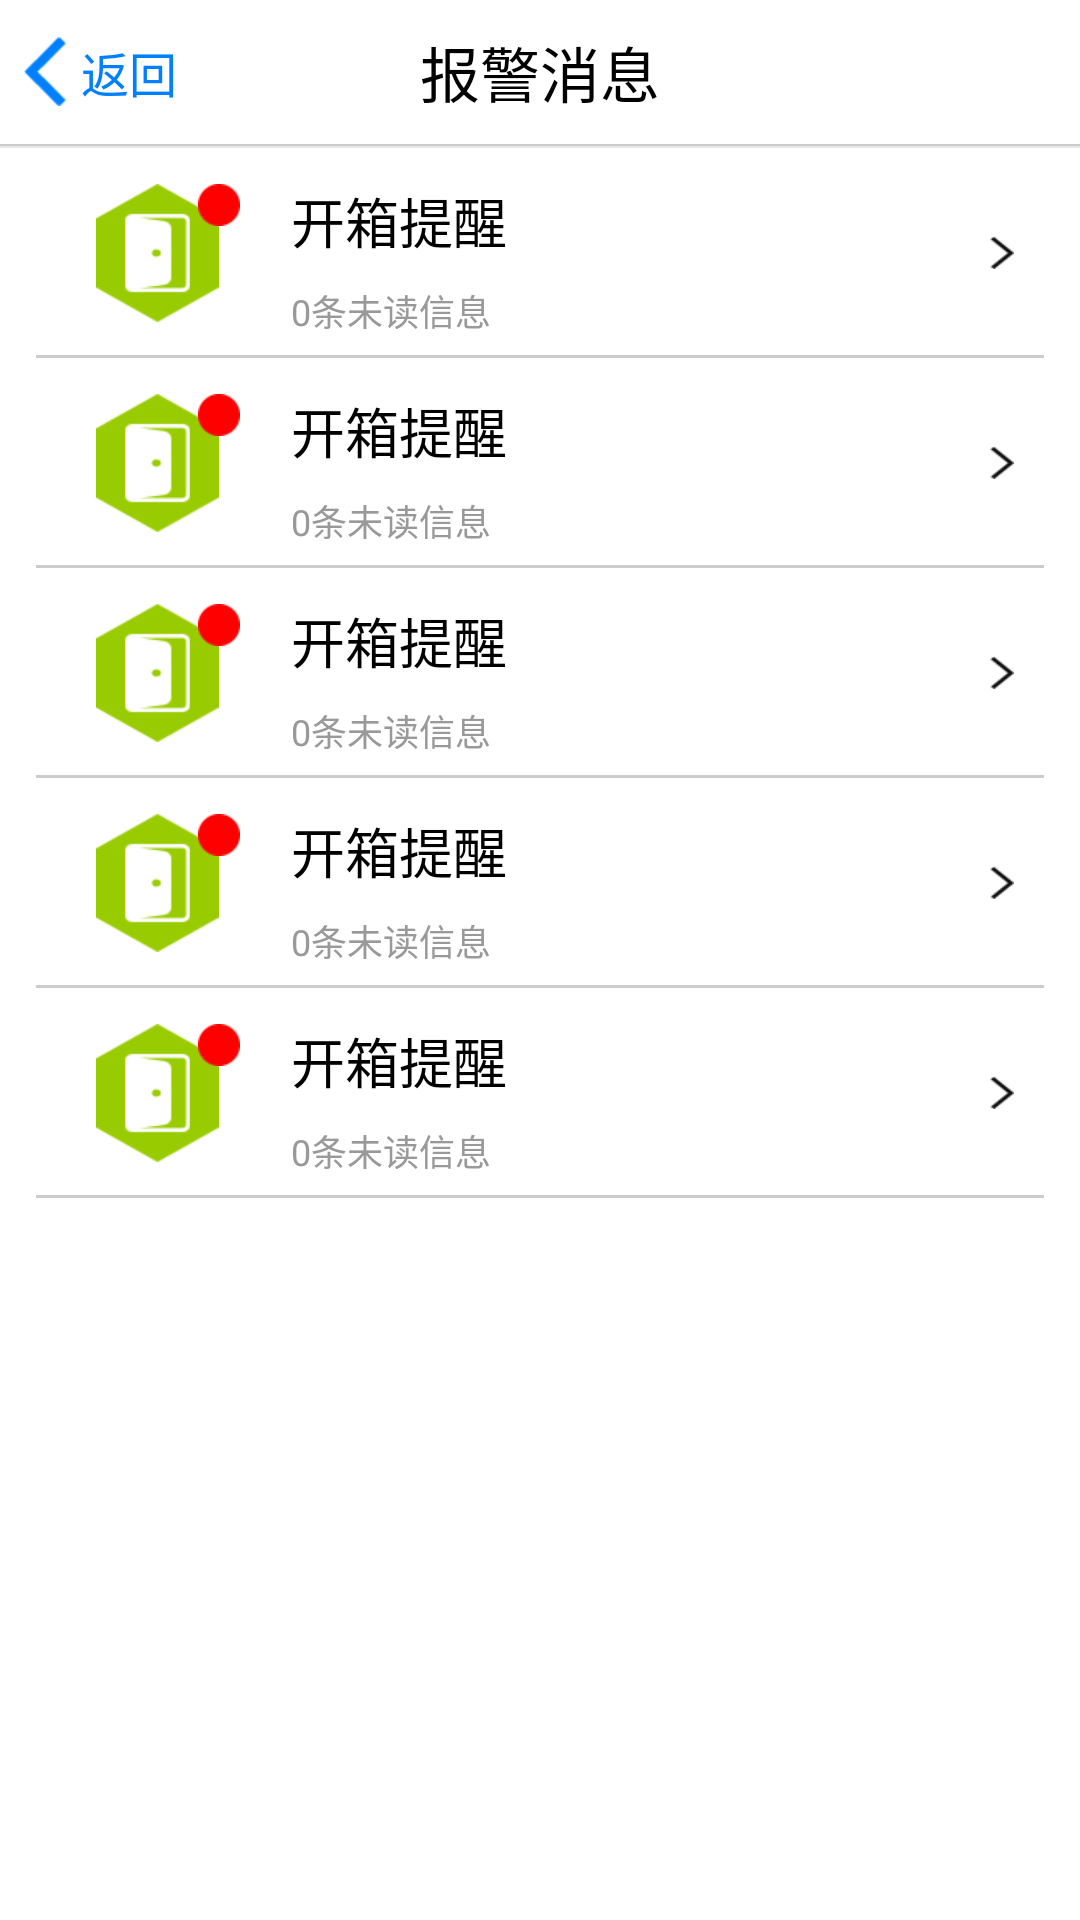

Named icons in this screenshot (1080 × 1920) and their bounding boxes, {"left": x1, "top": y1, "right": x2, "bottom": y2}:
msg detail: {"left": 990, "top": 237, "right": 1014, "bottom": 269}, {"left": 990, "top": 447, "right": 1014, "bottom": 479}, {"left": 990, "top": 657, "right": 1014, "bottom": 689}, {"left": 990, "top": 867, "right": 1014, "bottom": 899}, {"left": 990, "top": 1077, "right": 1014, "bottom": 1109}
openbox: {"left": 96, "top": 184, "right": 219, "bottom": 322}, {"left": 96, "top": 394, "right": 219, "bottom": 532}, {"left": 96, "top": 604, "right": 219, "bottom": 742}, {"left": 96, "top": 814, "right": 219, "bottom": 952}, {"left": 96, "top": 1024, "right": 219, "bottom": 1162}
